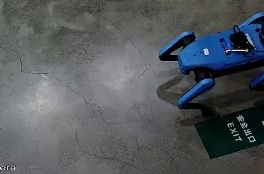robot dog: (156, 8, 264, 120)
